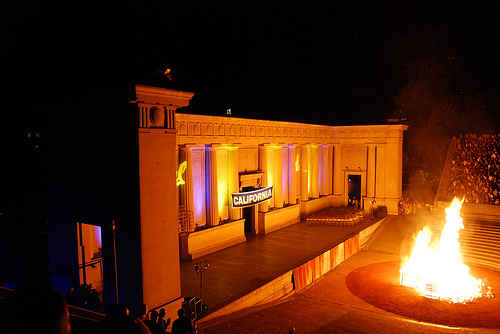fire: (404, 199, 485, 302)
